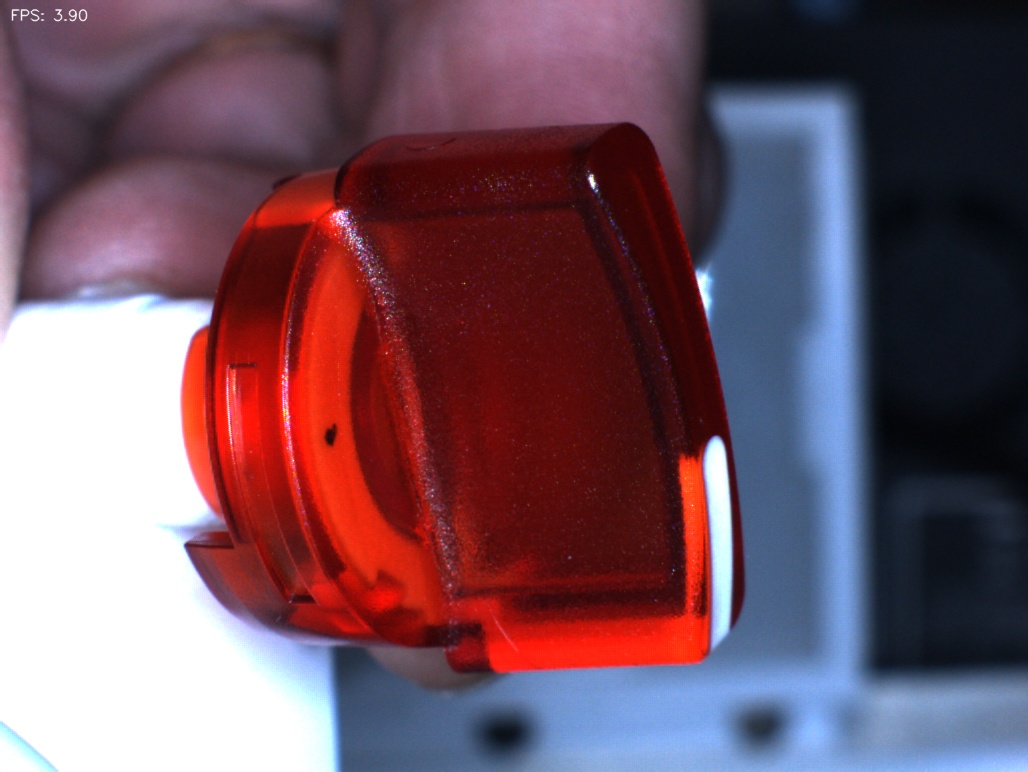PointNoir: (299, 404, 369, 474)
